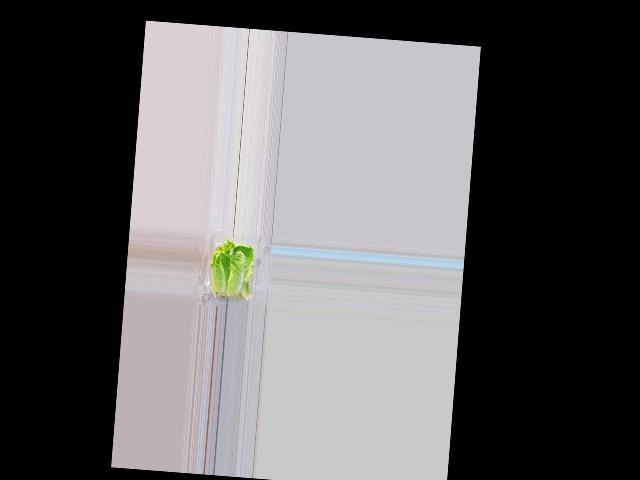lettuce: (208, 238, 255, 297)
